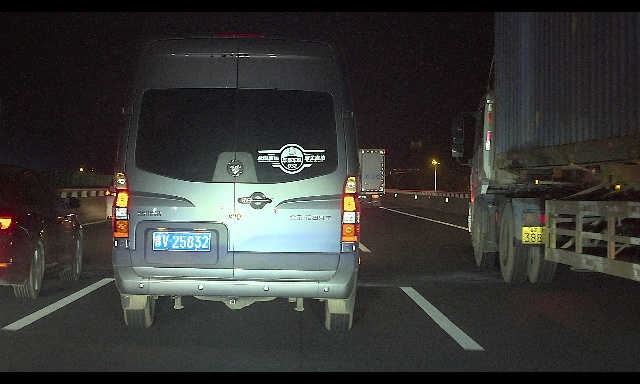car: (111, 33, 360, 332), (0, 167, 84, 299)
truck: (452, 12, 640, 285), (338, 149, 386, 210)
